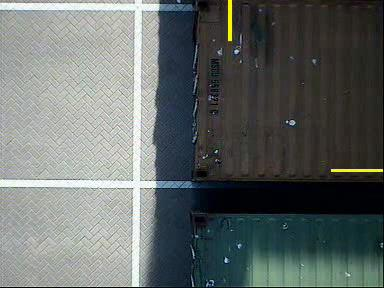groundmarker_2: (126, 138, 199, 189)
